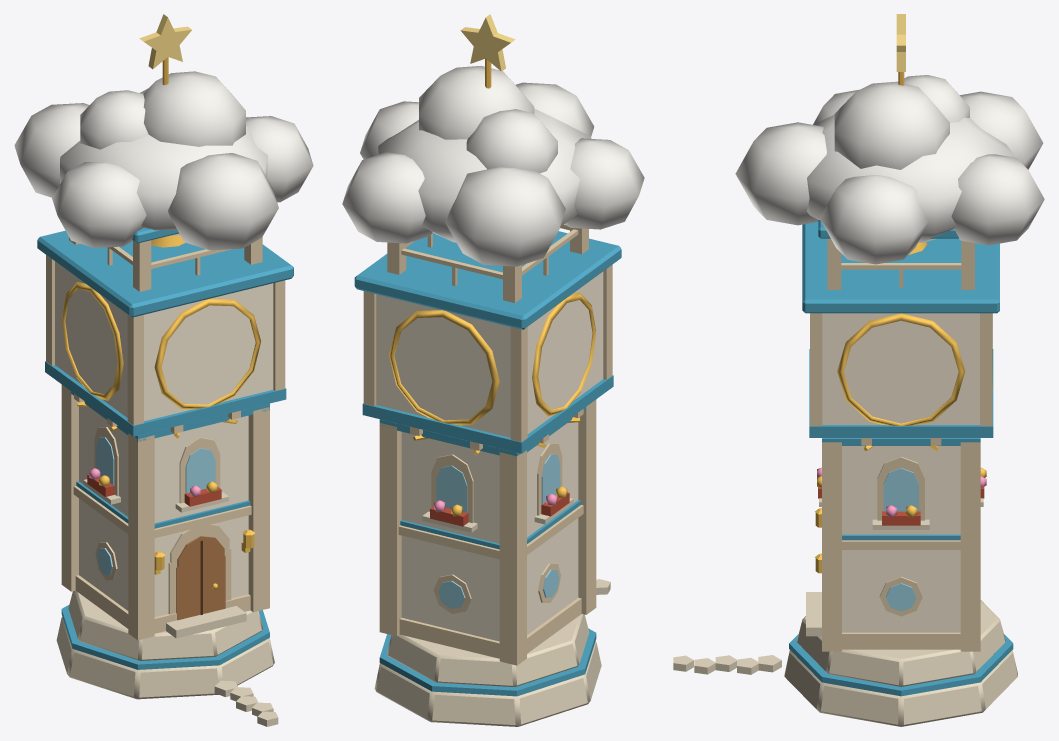
File: thap-dong-ho.glb
3 renders of one model, left to right at view 1: azimuth 30°, elevation 25°; view 2: azimuth 150°, elevation 25°; view 3: azimuth 270°, elevation 25°, orthographic. The views are drawn at different scales.
Visible parts, largest first — view 1: thap-dong-ho-11, thap-dong-ho-2, thap-dong-ho-3, thap-dong-ho-1, thap-dong-ho-0, thap-dong-ho-6, thap-dong-ho-4, thap-dong-ho-7, thap-dong-ho-12, thap-dong-ho-8; view 2: thap-dong-ho-11, thap-dong-ho-2, thap-dong-ho-3, thap-dong-ho-1, thap-dong-ho-0, thap-dong-ho-6, thap-dong-ho-7, thap-dong-ho-12, thap-dong-ho-8; view 3: thap-dong-ho-11, thap-dong-ho-2, thap-dong-ho-3, thap-dong-ho-1, thap-dong-ho-0, thap-dong-ho-6, thap-dong-ho-7, thap-dong-ho-8.
Boxes of the visible parts, x1=… form: thap-dong-ho-11: x1=14, y1=71, x2=313, y2=250; thap-dong-ho-2: x1=55, y1=261, x2=273, y2=616; thap-dong-ho-3: x1=46, y1=237, x2=285, y2=640; thap-dong-ho-1: x1=37, y1=228, x2=293, y2=669; thap-dong-ho-0: x1=56, y1=479, x2=278, y2=726; thap-dong-ho-6: x1=62, y1=57, x2=260, y2=589; thap-dong-ho-4: x1=176, y1=536, x2=225, y2=620; thap-dong-ho-7: x1=96, y1=437, x2=215, y2=574; thap-dong-ho-12: x1=139, y1=14, x2=191, y2=69; thap-dong-ho-8: x1=87, y1=474, x2=221, y2=506; thap-dong-ho-11: x1=342, y1=66, x2=644, y2=266; thap-dong-ho-2: x1=376, y1=271, x2=603, y2=641; thap-dong-ho-3: x1=363, y1=224, x2=612, y2=665; thap-dong-ho-1: x1=354, y1=231, x2=621, y2=696; thap-dong-ho-0: x1=374, y1=498, x2=610, y2=726; thap-dong-ho-6: x1=389, y1=58, x2=595, y2=455; thap-dong-ho-7: x1=436, y1=454, x2=560, y2=608; thap-dong-ho-12: x1=460, y1=14, x2=515, y2=71; thap-dong-ho-8: x1=430, y1=492, x2=569, y2=526; thap-dong-ho-11: x1=735, y1=75, x2=1044, y2=264; thap-dong-ho-2: x1=822, y1=313, x2=979, y2=632; thap-dong-ho-3: x1=810, y1=238, x2=992, y2=651; thap-dong-ho-1: x1=789, y1=220, x2=1013, y2=696; thap-dong-ho-0: x1=673, y1=498, x2=1017, y2=726; thap-dong-ho-6: x1=815, y1=72, x2=992, y2=573; thap-dong-ho-7: x1=883, y1=468, x2=918, y2=611; thap-dong-ho-8: x1=818, y1=486, x2=984, y2=525.
Size of the model in its own units: 5.81 by 13.8 by 7.
